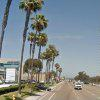Palm tree: (17, 0, 62, 64)
